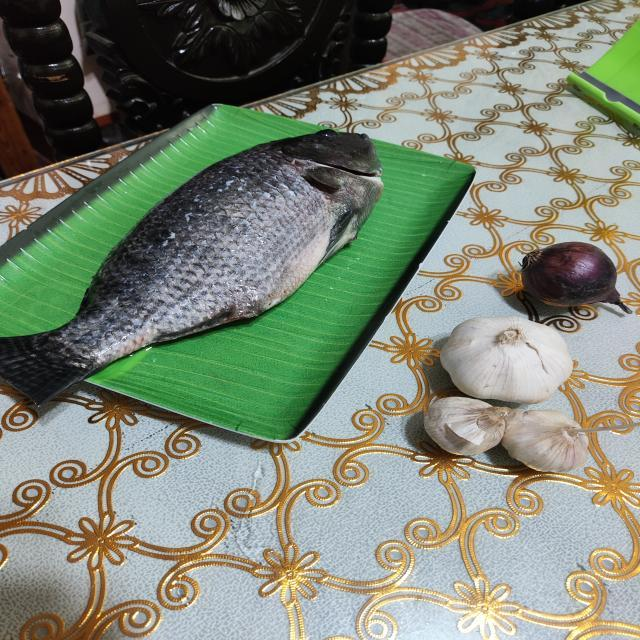fish: (0, 127, 383, 416)
garlic: (422, 308, 592, 481)
onion: (524, 241, 616, 309)
